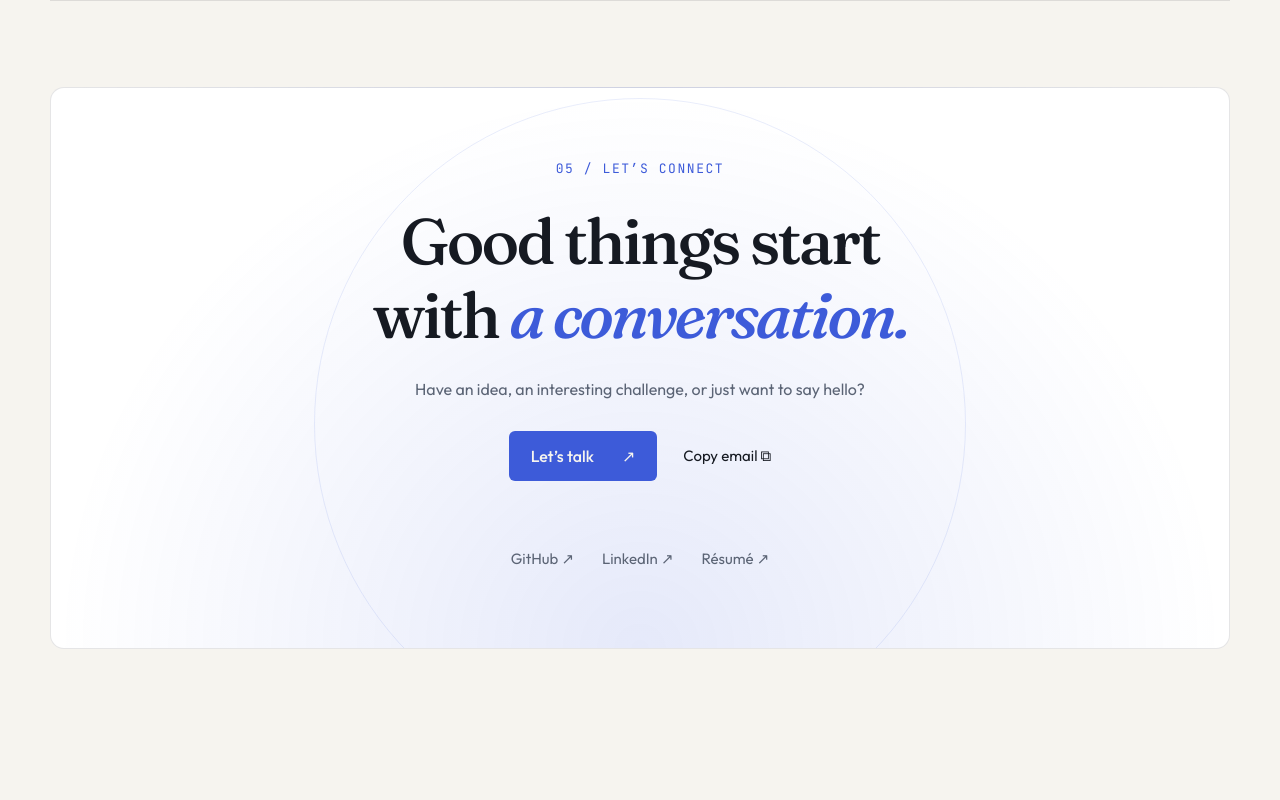
Test: portfolio navigation and contact › copies the real email address and acknowledges it only after success
Click the button "Copy email ⧉" at (727, 456), box [683,432,771,479]
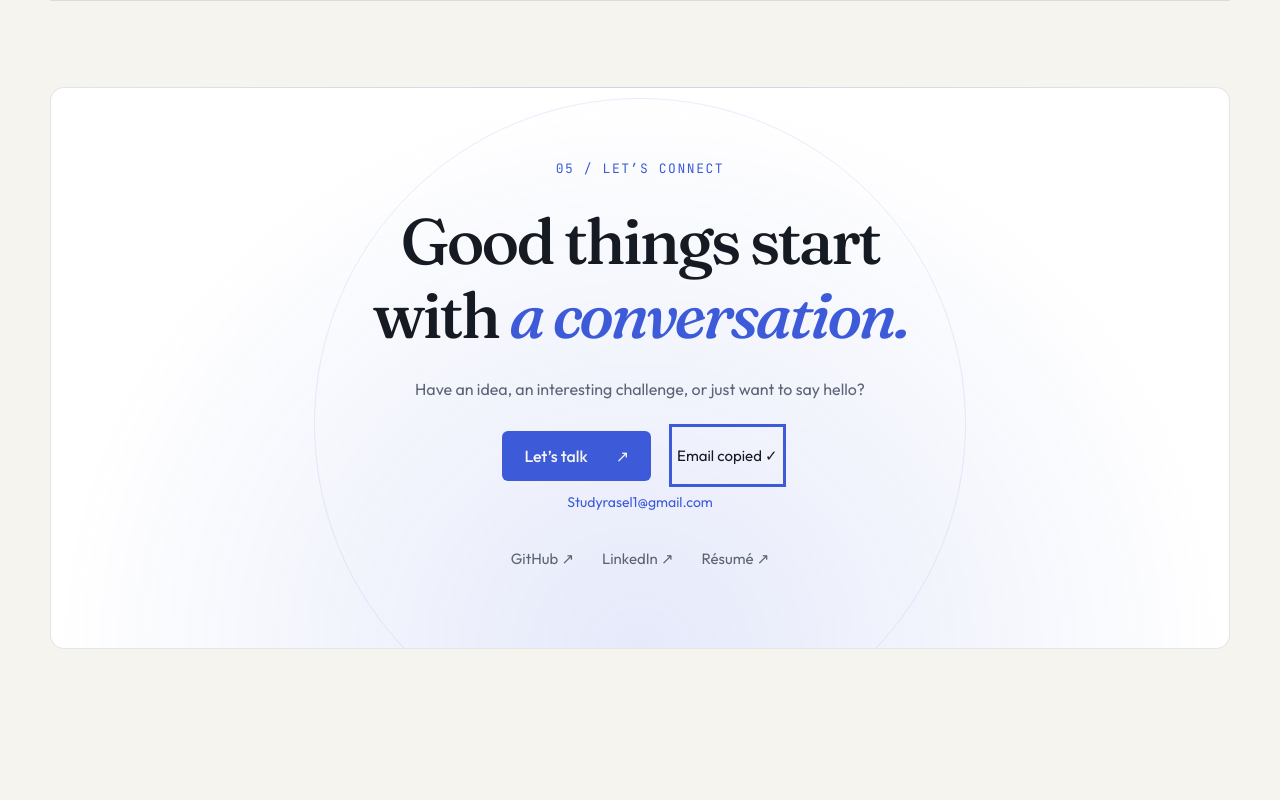
Expected: the button "Email copied ✓" is shown, [677,432,778,479]
